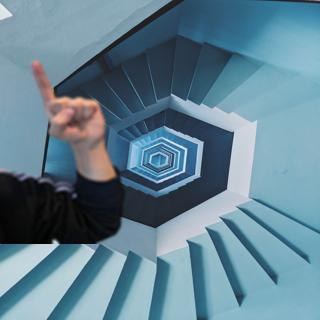IRRITATED: (28, 58, 108, 147)
